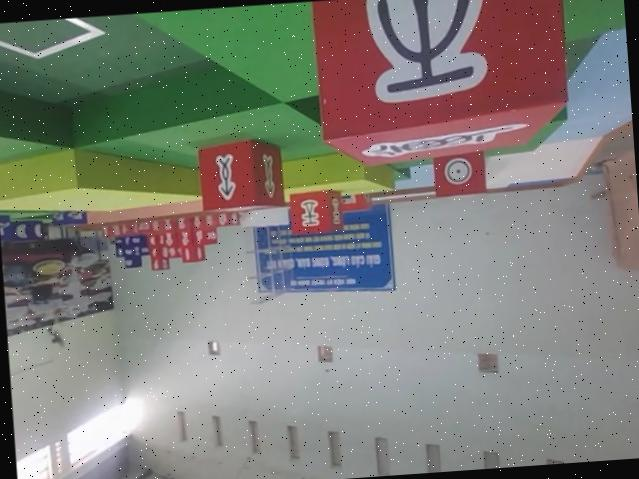R2 Fake: (307, 0, 575, 173)
R2 Real: (195, 134, 282, 213), (431, 149, 487, 198), (288, 188, 342, 235)
